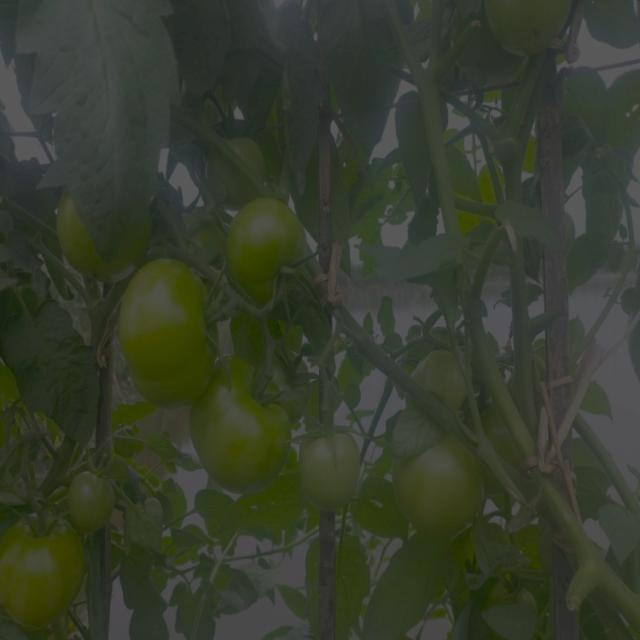tomato: (189, 338, 292, 485), (122, 258, 220, 407), (1, 509, 92, 621), (401, 432, 487, 530), (226, 201, 317, 293), (296, 413, 363, 514), (42, 203, 112, 291), (482, 1, 572, 57), (423, 342, 482, 416), (64, 468, 118, 530), (228, 133, 270, 180)
